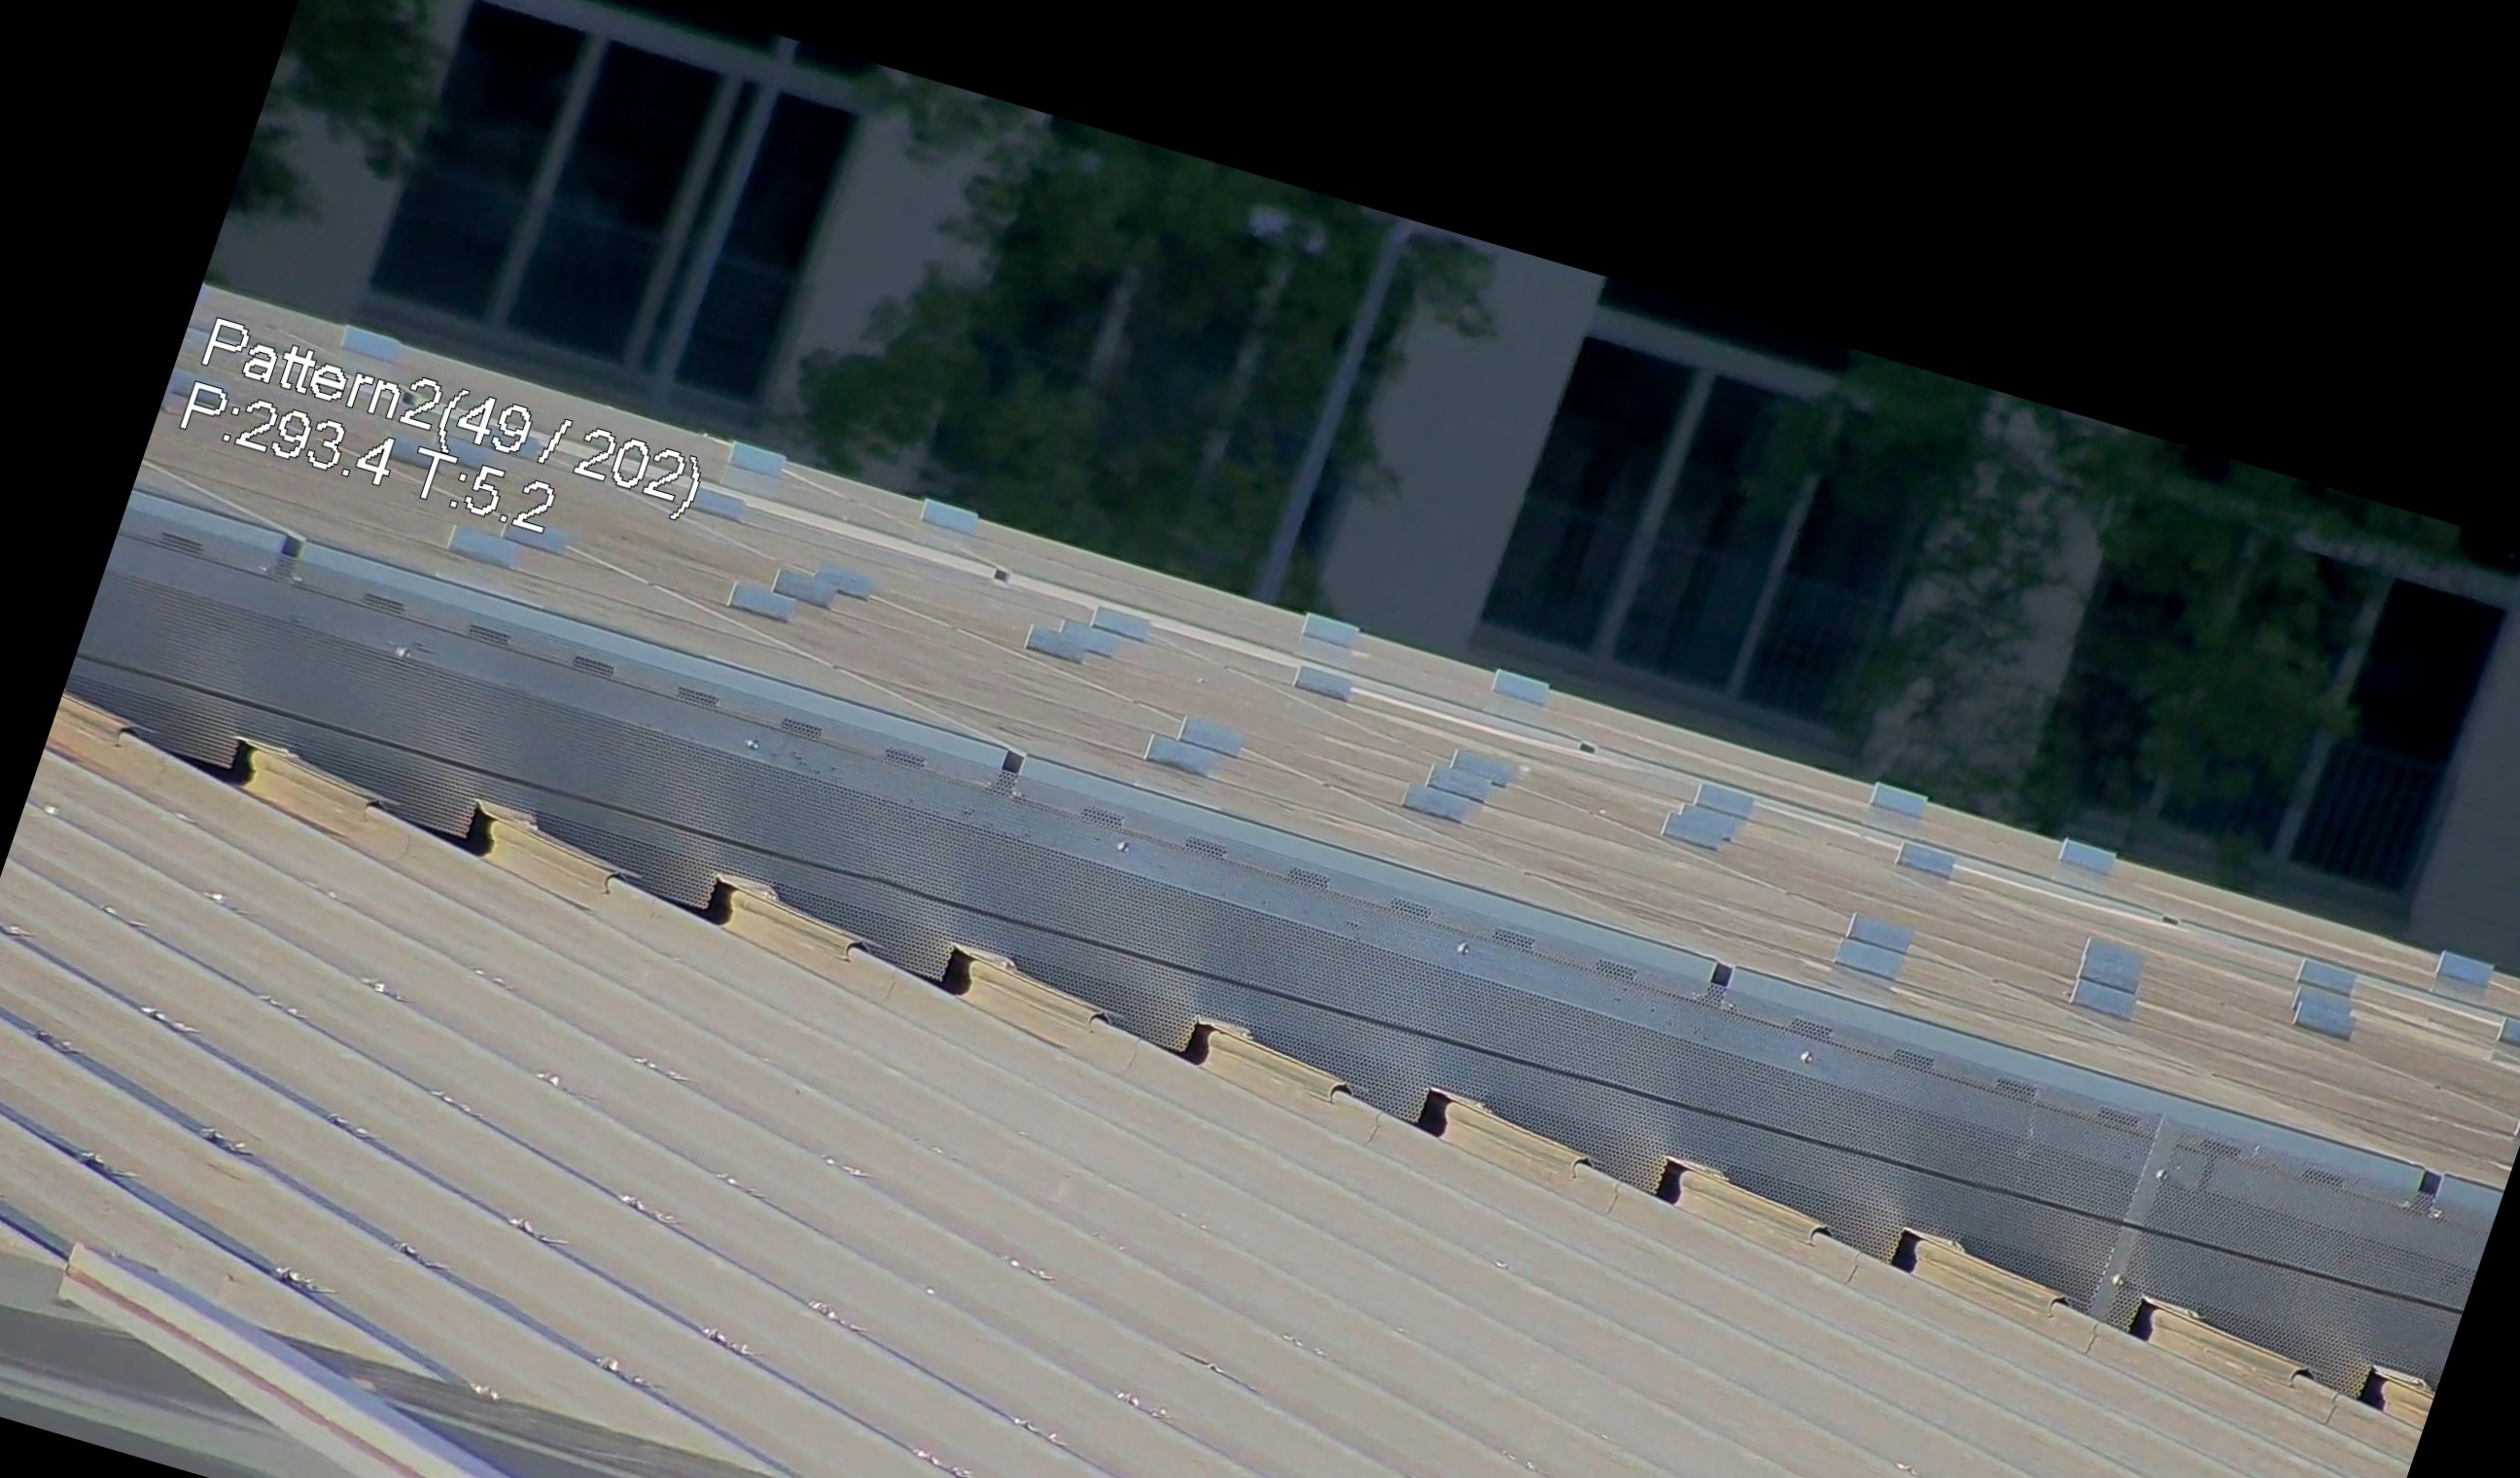Other: (417, 781, 498, 857)
